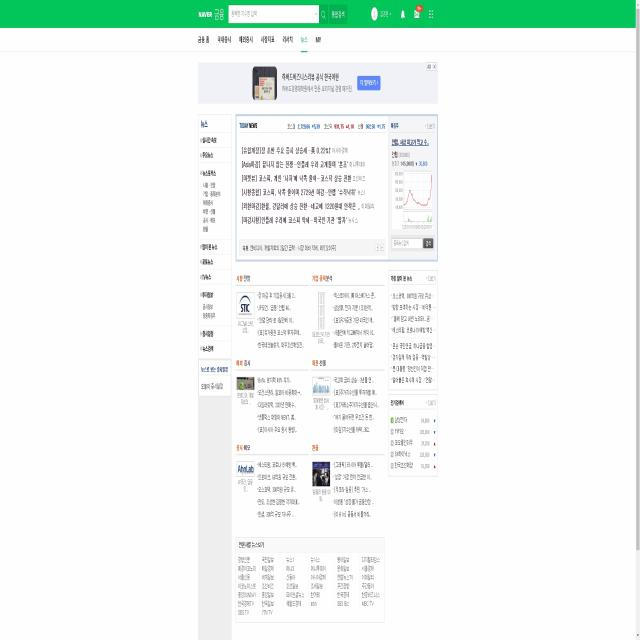menu-panel: (197, 110, 232, 399)
side-panel: (386, 268, 438, 479)
tab-bar: (196, 32, 327, 49)
